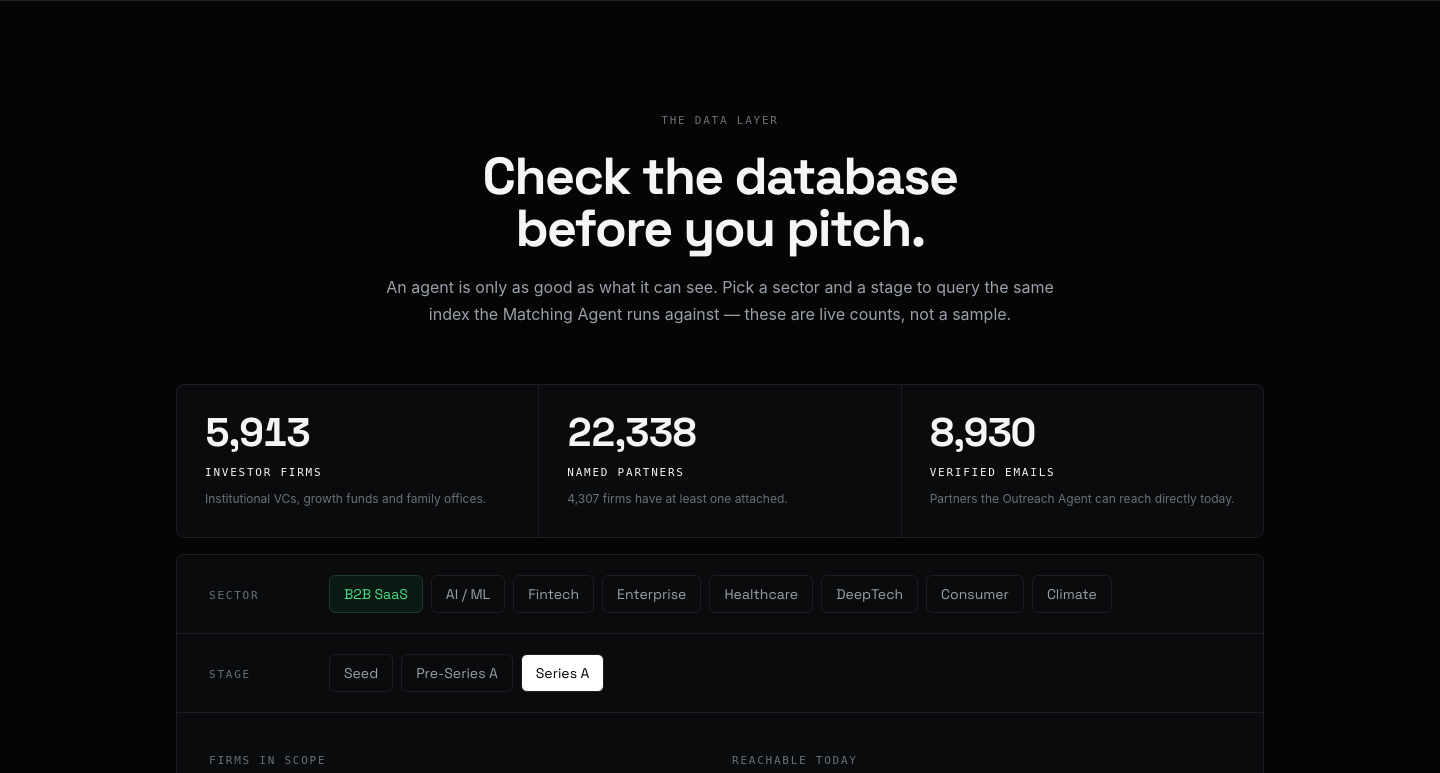
Test: Database coverage check › swaps both figures when the sector changes
The width and height of the screenshot is (1440, 773).
Click the button "Climate": (1072, 594) [1032, 575, 1112, 613]
(page scrolled)
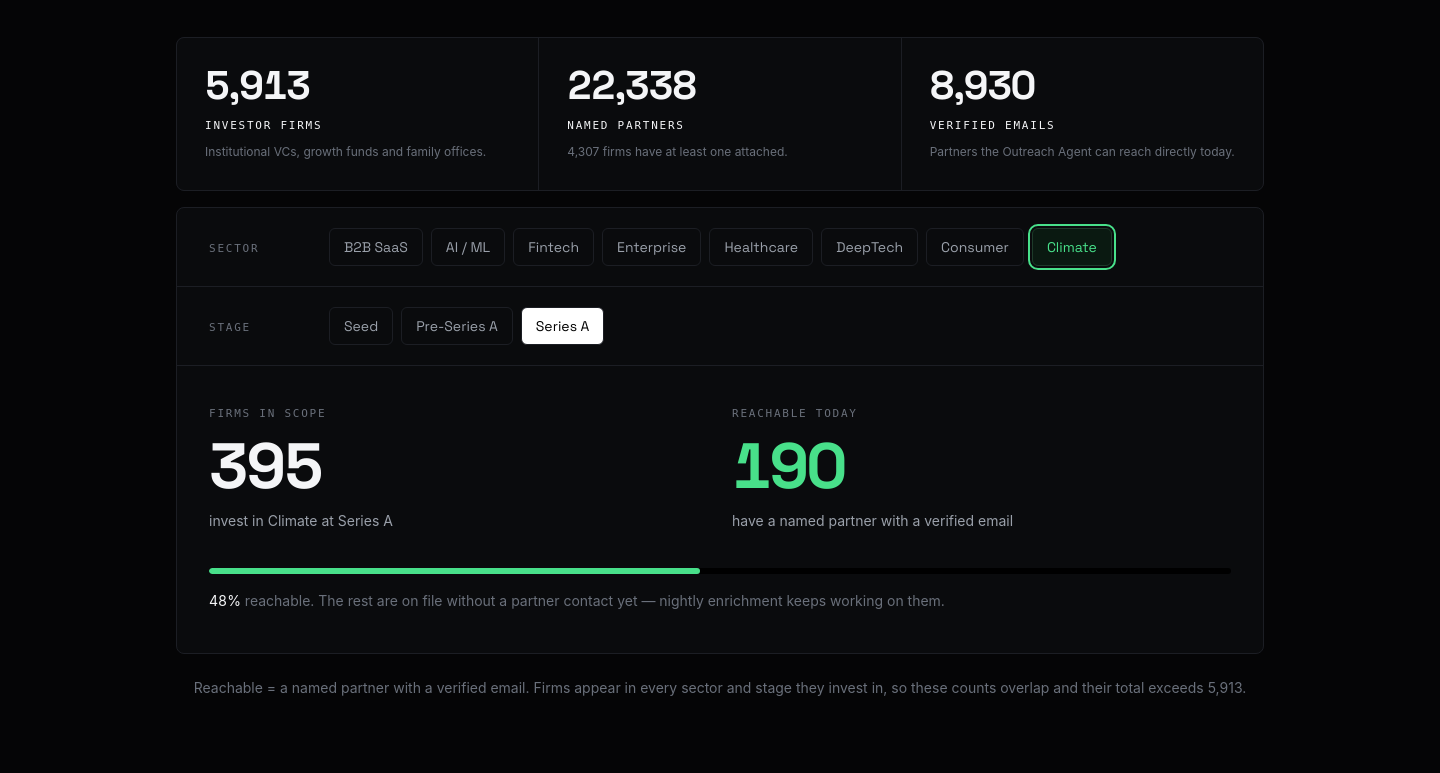
Result: the text "395" is shown at [209, 425, 321, 507]
Result: the text "190" is shown at [732, 425, 844, 507]
